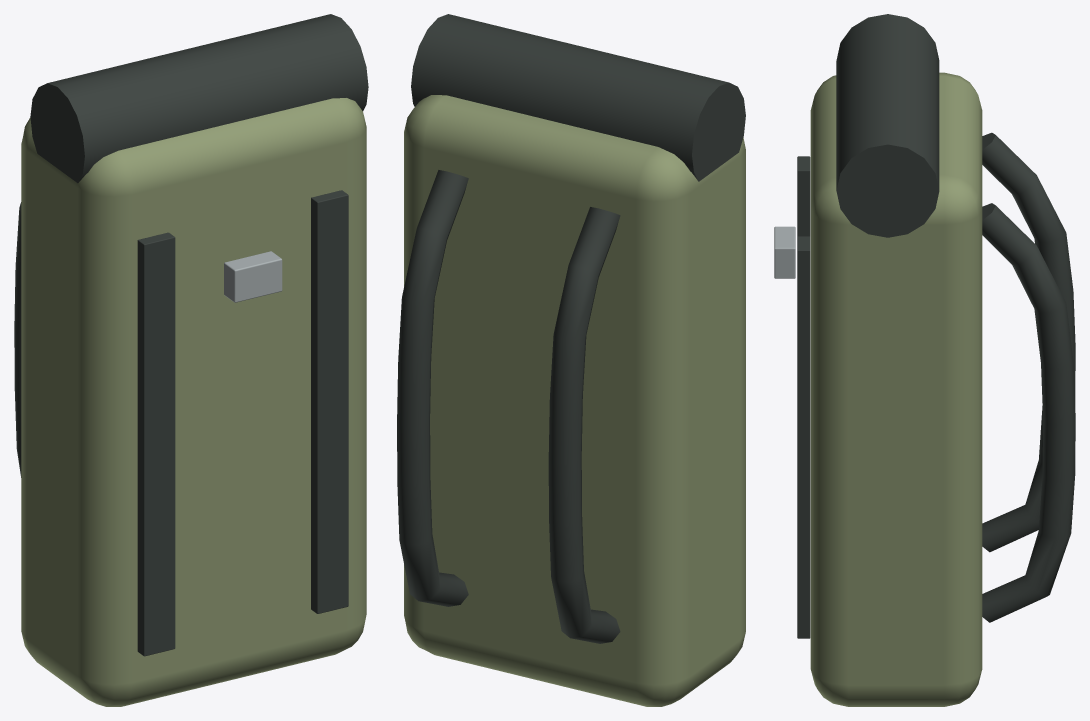
File: backpacks-and-expedition-storage-rolltop-expedition-pa-eb9d7505__21068.glb
3 renders of one model, left to right at view 1: azimuth 30°, elevation 25°; view 2: azimuth 150°, elevation 25°; view 3: azimuth 270°, elevation 25°, orthographic. The views are drawn at different scales.
Parts seen in each view (by area): view 1: rolltop-expedition-pack; view 2: rolltop-expedition-pack; view 3: rolltop-expedition-pack.
Boxes of the visible parts, x1,y1,x2,y2 form: rolltop-expedition-pack: (14, 14, 368, 706); rolltop-expedition-pack: (397, 14, 745, 706); rolltop-expedition-pack: (774, 14, 1075, 706).
Size of the model in its own units: 0.3612 by 0.74 by 0.3514.
